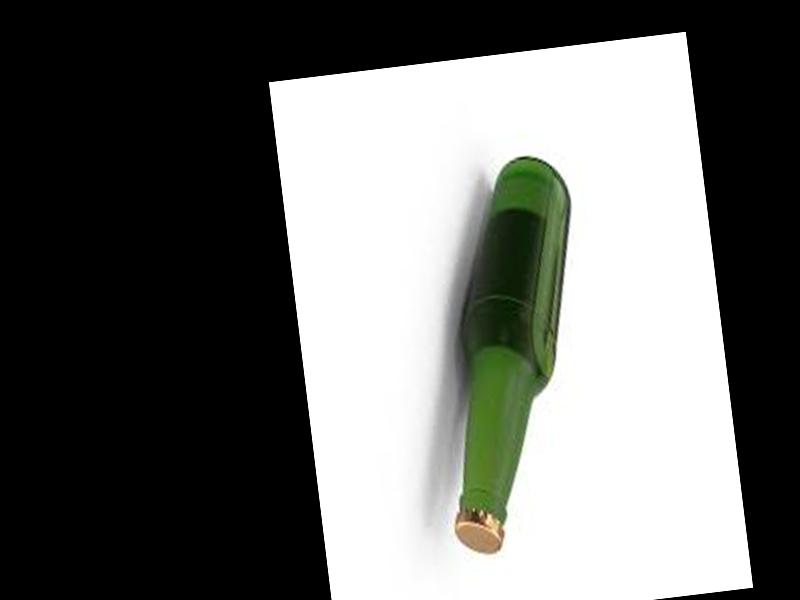Beer: (410, 151, 611, 560)
